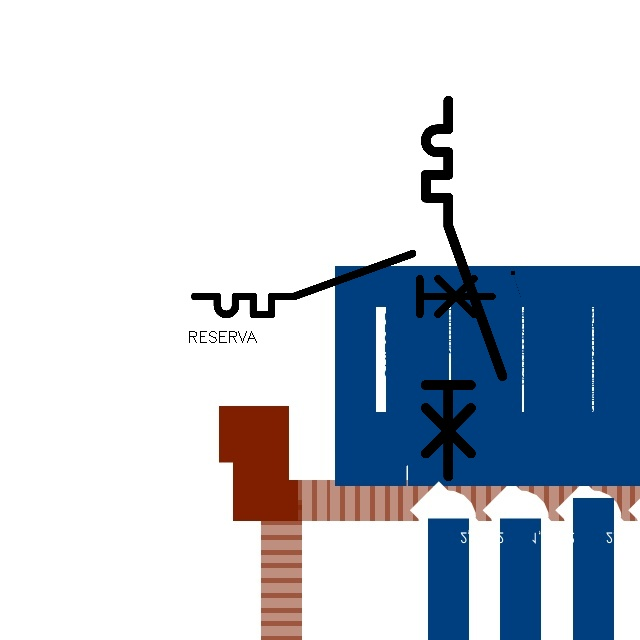interruptor_termomagnetico: (416, 91, 512, 486), (187, 246, 500, 322)
